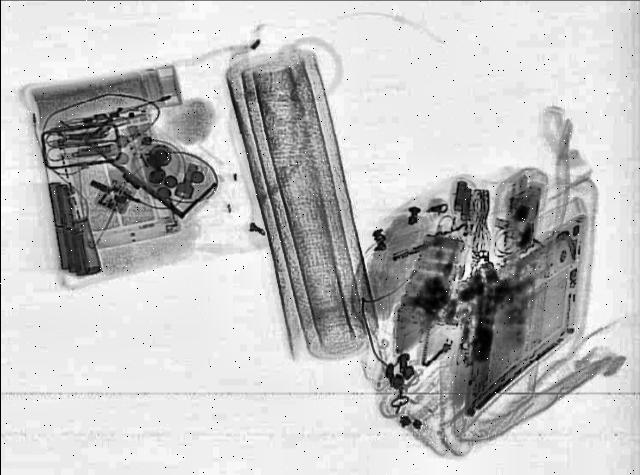Scissors: (42, 128, 118, 164)
